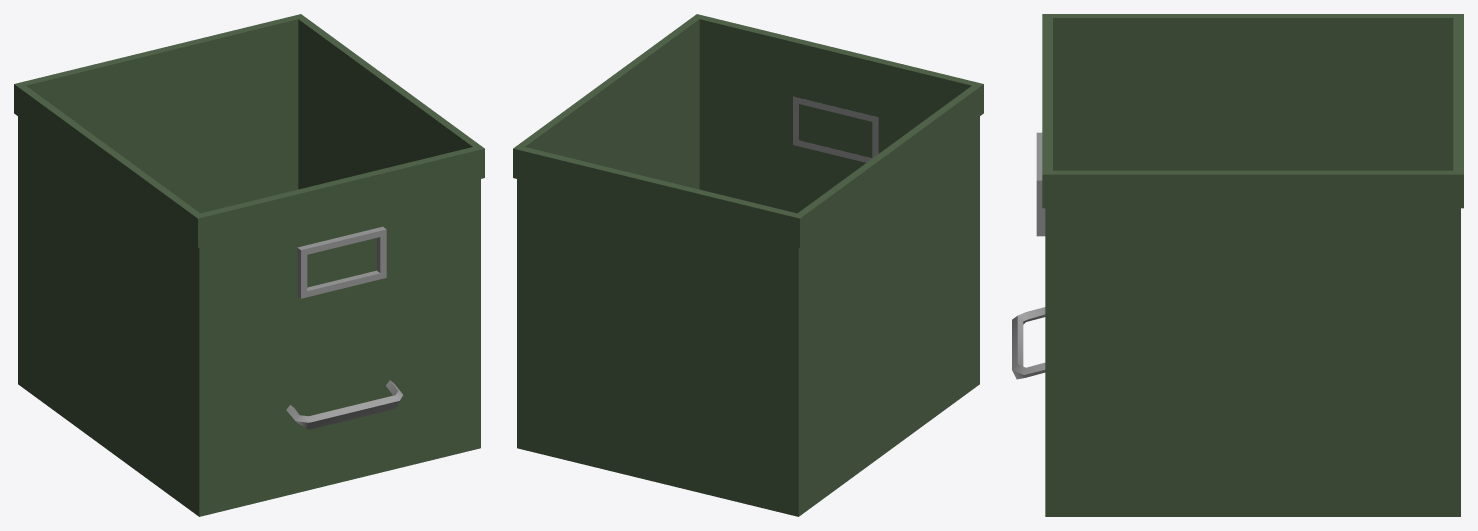
File: SM_locker_draw.fbx
The picture shows the model from 3 angles, left to right: view 1: azimuth 30°, elevation 25°; view 2: azimuth 150°, elevation 25°; view 3: azimuth 270°, elevation 25°; orthographic projection. The views are drawn at different scales.
Visible parts, largest first — view 1: Box017; view 2: Box017; view 3: Box017.
Boxes of the visible parts, x1,y1,x2,y2 form: Box017: (14,14,484,516); Box017: (513,14,983,516); Box017: (1012,14,1463,516).
Bounding box in the file's own units: 23.38 × 23.35 × 27.8.
